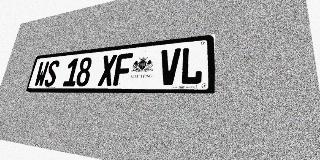1: (63, 58, 81, 87)
8: (75, 57, 93, 86)
F: (113, 53, 133, 86)
L: (180, 46, 203, 85)
S: (43, 60, 60, 87)
V: (158, 48, 181, 85)
W: (33, 61, 50, 87)
X: (98, 54, 117, 86)
